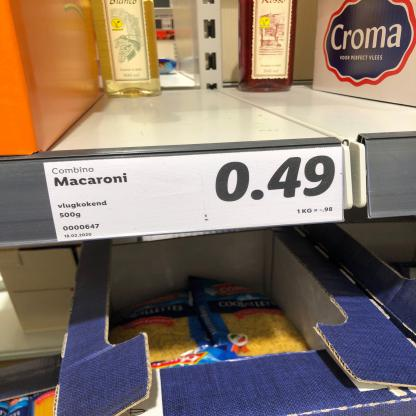prtg: (45, 148, 345, 243)
